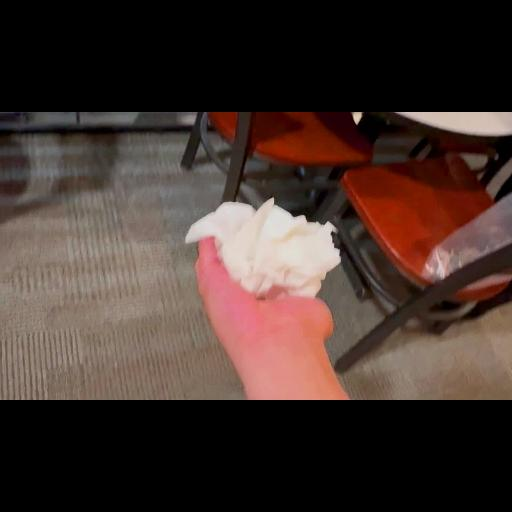napkin: (184, 192, 344, 302)
